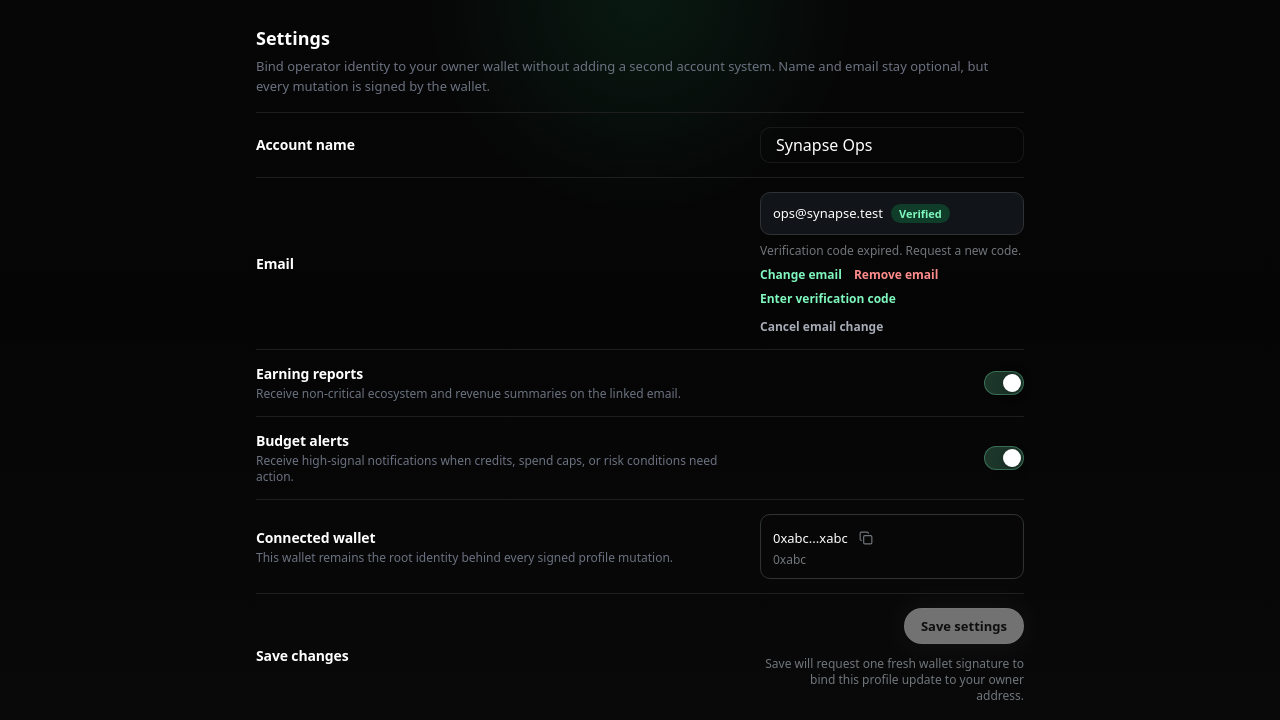
it: AccountSettingsPage › resends before opening an expired pending email verification
This screenshot has width=1280, height=720.
Click the button "Enter verification code".
click(828, 299)  # box [760, 291, 896, 307]
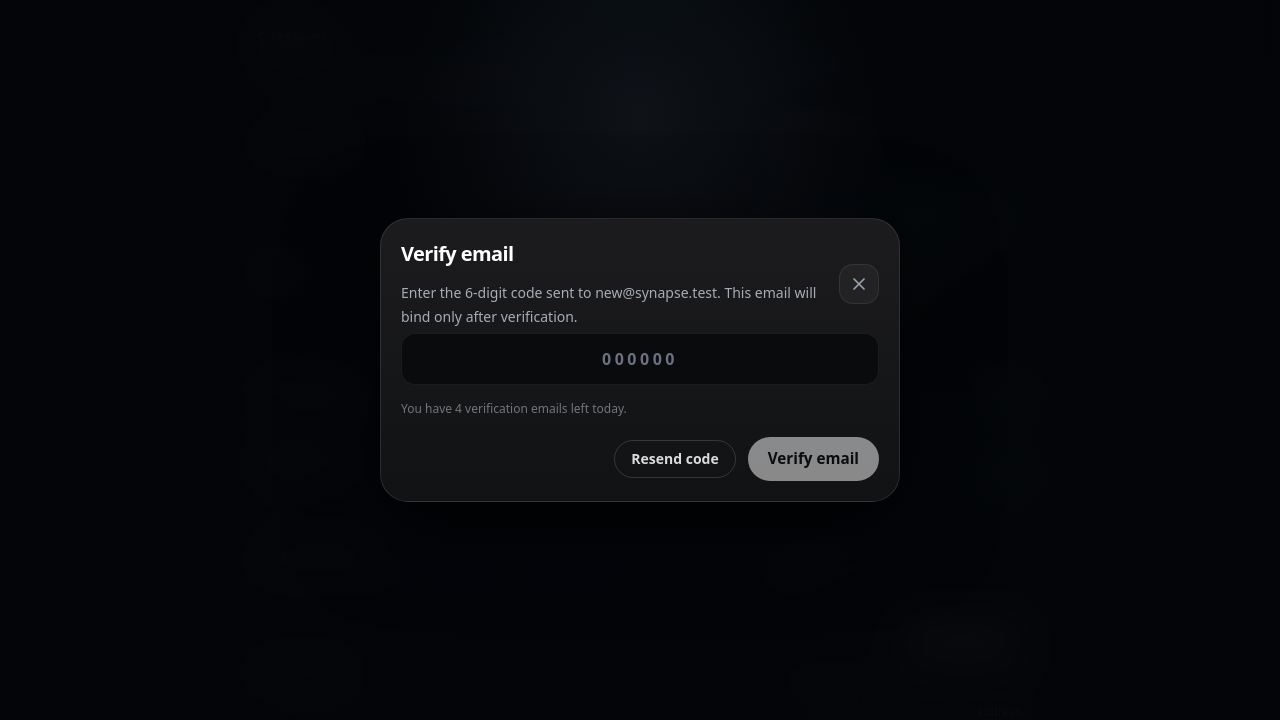
Result: the dialog "Verify email" is shown
Result: the text "You have 4 verification emails left today." is shown at [401, 400, 627, 417]
